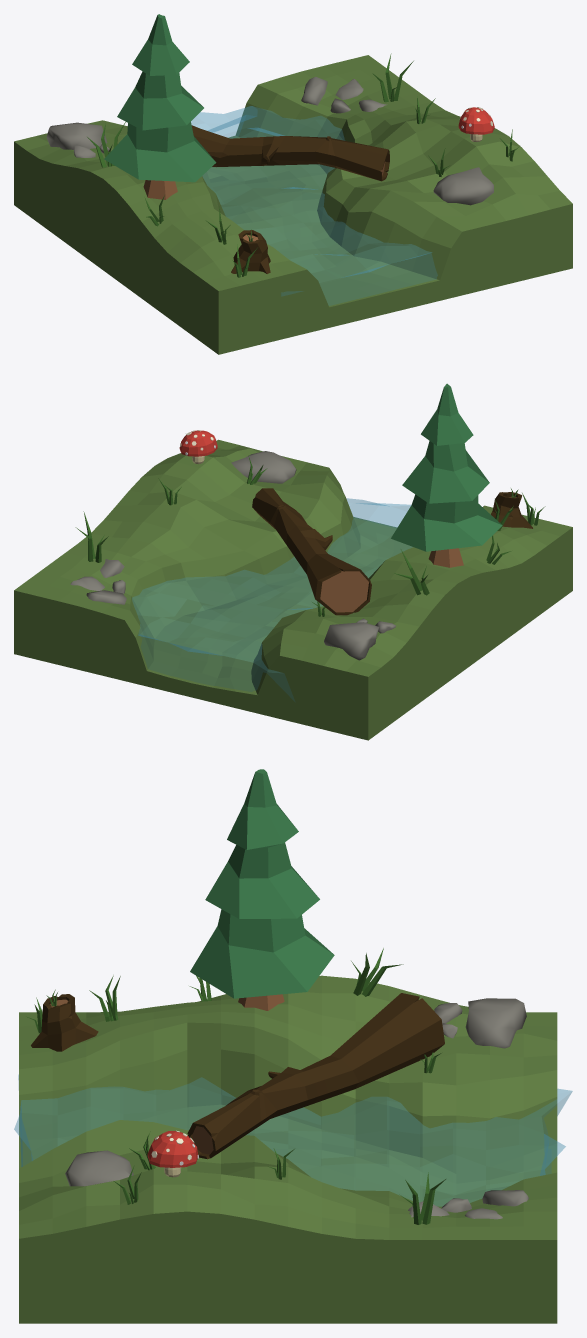
The model's file is enchanted.forest.glb.
The picture shows the model from 3 angles, top to bottom: view 1: azimuth 30°, elevation 25°; view 2: azimuth 150°, elevation 25°; view 3: azimuth 270°, elevation 25°; orthographic projection. The views are drawn at different scales.
Visible parts, largest first — view 1: ground, river, tree, fallen tree, rock.008, rock.001, tree stump, mushroom, rock.006, Plane.010; view 2: ground, river, tree, fallen tree, rock.001, rock.008, tree stump, mushroom; view 3: ground, river, tree, fallen tree, rock.001, tree stump, rock.008, mushroom, Plane.010, Plane.008.
Part boxes in pixels (x1=…): ground: x1=14, y1=55, x2=572, y2=354; river: x1=191, y1=106, x2=437, y2=305; tree: x1=104, y1=14, x2=216, y2=199; fallen tree: x1=191, y1=125, x2=389, y2=181; rock.008: x1=433, y1=167, x2=493, y2=205; rock.001: x1=46, y1=122, x2=107, y2=149; tree stump: x1=231, y1=230, x2=270, y2=273; mushroom: x1=458, y1=107, x2=494, y2=141; rock.006: x1=301, y1=77, x2=327, y2=105; Plane.010: x1=372, y1=53, x2=413, y2=102; ground: x1=14, y1=439, x2=572, y2=740; river: x1=132, y1=498, x2=412, y2=701; tree: x1=391, y1=383, x2=502, y2=567; fallen tree: x1=252, y1=488, x2=371, y2=615; rock.001: x1=324, y1=622, x2=379, y2=660; rock.008: x1=231, y1=451, x2=296, y2=483; tree stump: x1=491, y1=492, x2=532, y2=528; mushroom: x1=179, y1=430, x2=217, y2=464; ground: x1=19, y1=975, x2=557, y2=1323; river: x1=14, y1=1075, x2=572, y2=1206; tree: x1=190, y1=769, x2=334, y2=1010; fallen tree: x1=187, y1=993, x2=444, y2=1159; rock.001: x1=465, y1=998, x2=526, y2=1048; tree stump: x1=31, y1=994, x2=98, y2=1051; rock.008: x1=65, y1=1150, x2=133, y2=1186; mushroom: x1=147, y1=1131, x2=197, y2=1177; Plane.010: x1=399, y1=1172, x2=445, y2=1224; Plane.008: x1=351, y1=948, x2=403, y2=996.
Size of the model in its own units: 8.27 by 5.7 by 8.31.
